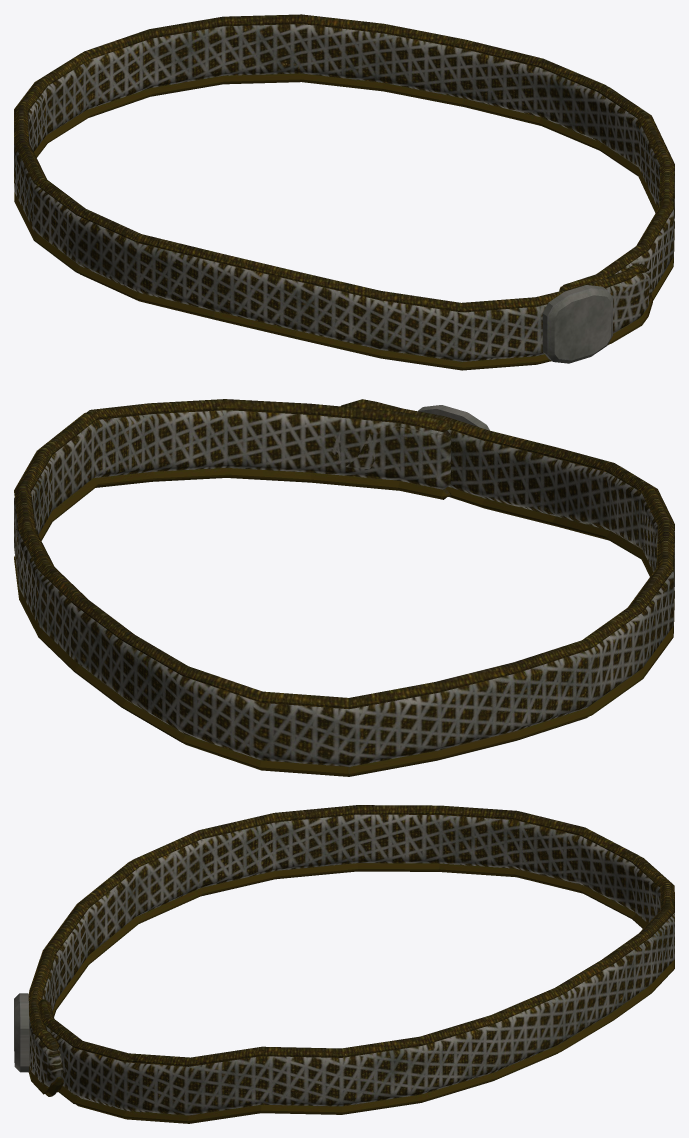
File: mesh_belt.glb
3 views of the same model, one above another, from view 1: azimuth 30°, elevation 25°; view 2: azimuth 150°, elevation 25°; view 3: azimuth 270°, elevation 25° (orthographic). The views are drawn at different scales.
Parts seen in each view (by area): view 1: mesh_belt; view 2: mesh_belt; view 3: mesh_belt.
Boxes of the visible parts, x1=… form: mesh_belt: x1=14, y1=14, x2=674, y2=370; mesh_belt: x1=14, y1=399, x2=674, y2=776; mesh_belt: x1=14, y1=805, x2=674, y2=1123.
Size of the model in its own units: 0.2117 by 0.047 by 0.234.
1 material, 1 textured.
